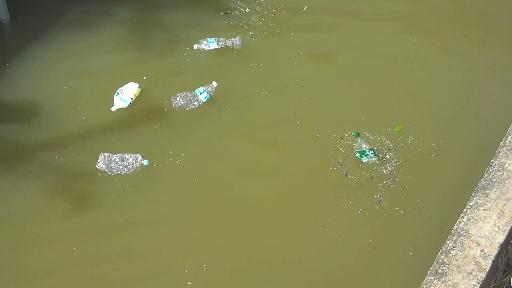leaf: (392, 120, 402, 134)
plastic: (162, 72, 251, 112), (82, 133, 150, 183), (95, 72, 148, 110), (178, 32, 248, 55), (349, 129, 382, 167)
